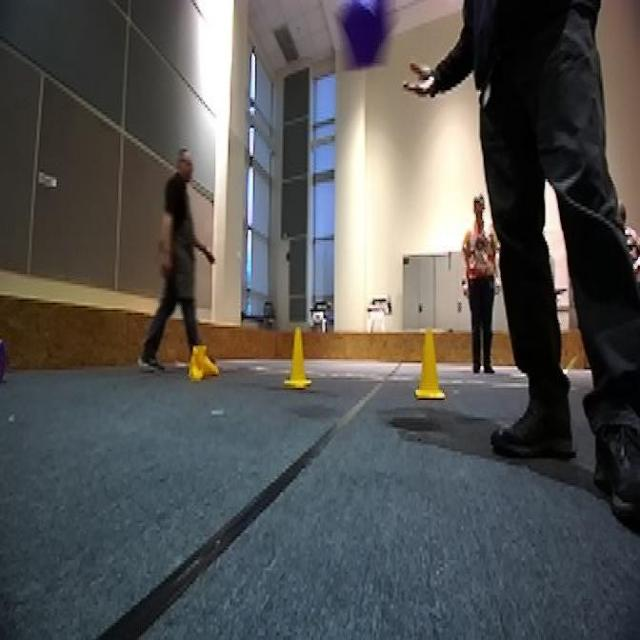frc_cone: (408, 328, 452, 398), (281, 328, 313, 386), (190, 351, 215, 381)
frc_cube: (327, 0, 395, 70), (0, 337, 10, 383)
